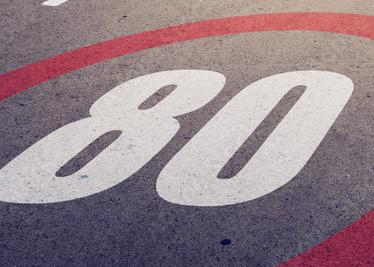Speed Limit -80-: (0, 1, 373, 266)
